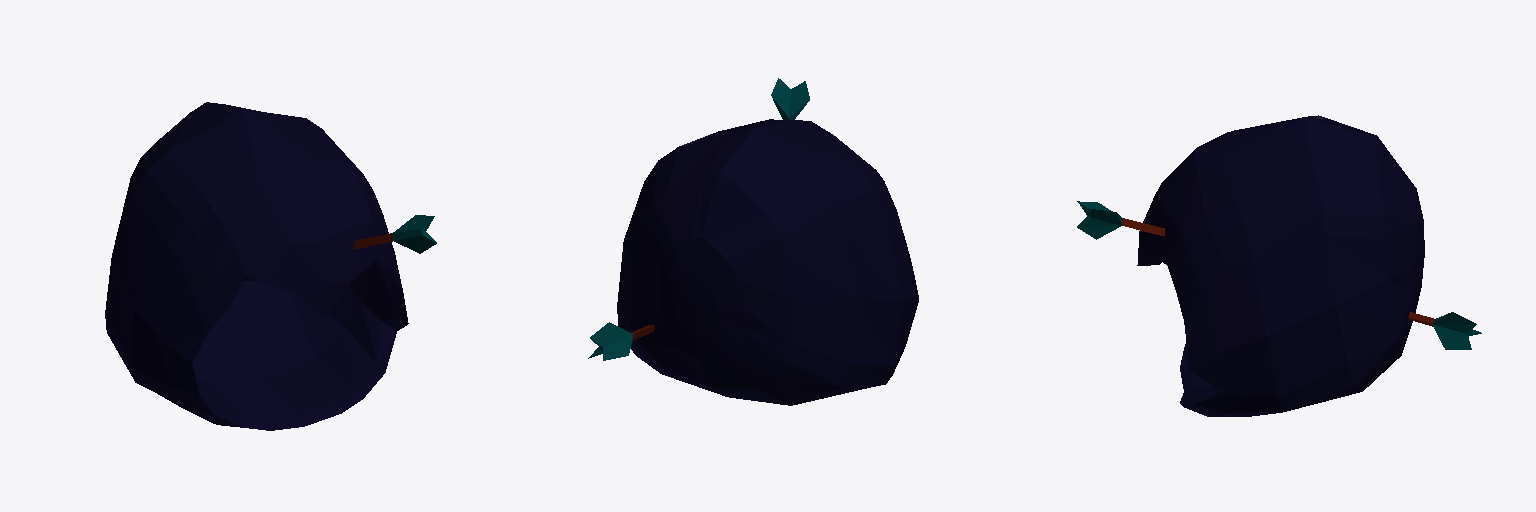
The model's file is character_skeleton_archer_hood_broken.obj.
The picture shows the model from 3 angles: view 1: azimuth 30°, elevation 25°; view 2: azimuth 150°, elevation 25°; view 3: azimuth 270°, elevation 25°; orthographic projection.
Parts seen in each view (by area): view 1: character_skeleton_archer_hood_broken_Cube.7664; view 2: character_skeleton_archer_hood_broken_Cube.7664; view 3: character_skeleton_archer_hood_broken_Cube.7664.
Part boxes in pixels (bbox=[...]): character_skeleton_archer_hood_broken_Cube.7664: bbox=[105, 102, 436, 430]; character_skeleton_archer_hood_broken_Cube.7664: bbox=[588, 78, 918, 405]; character_skeleton_archer_hood_broken_Cube.7664: bbox=[1077, 115, 1481, 416].
Bounding box in the file's own units: 1.12 × 1.15 × 1.53.